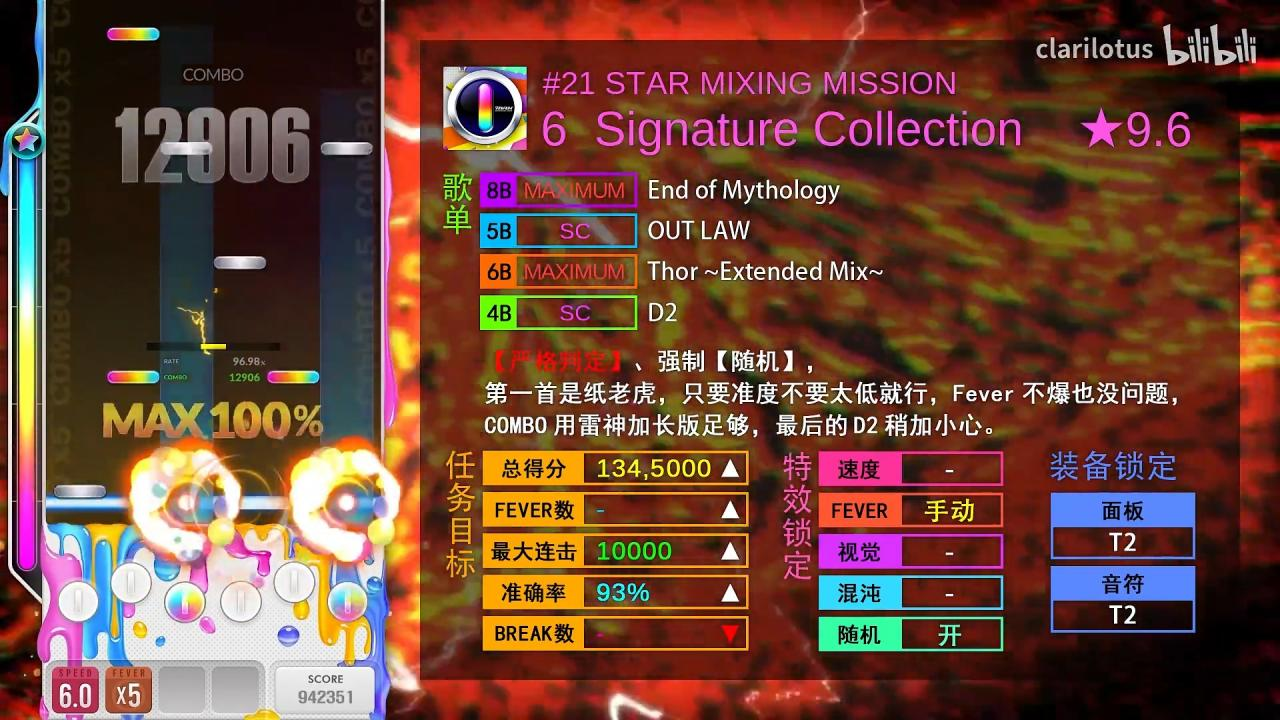note: (215, 255, 266, 270), (107, 28, 159, 42), (161, 142, 213, 156), (108, 370, 160, 384), (53, 485, 107, 498), (321, 142, 374, 155), (268, 371, 320, 384)
